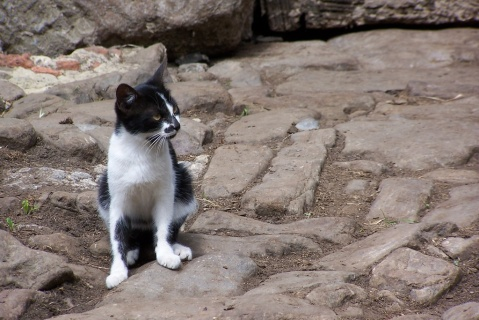Cat: (91, 60, 194, 285)
